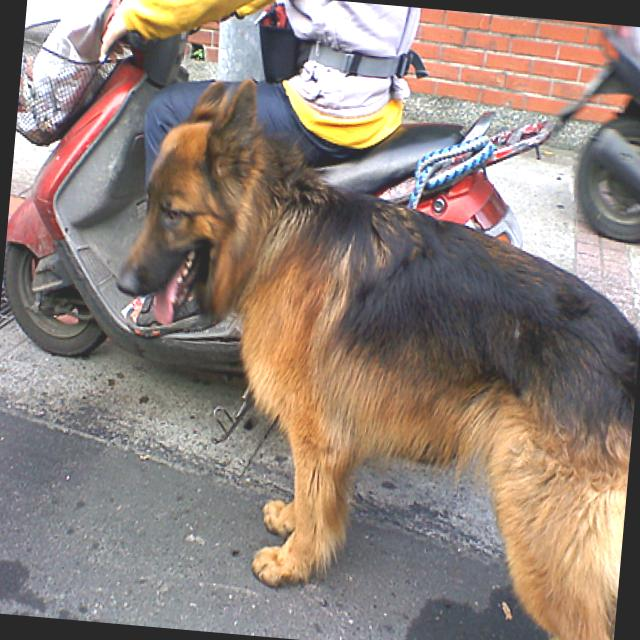Vehicle: (0, 46, 555, 470), (548, 20, 640, 242)
